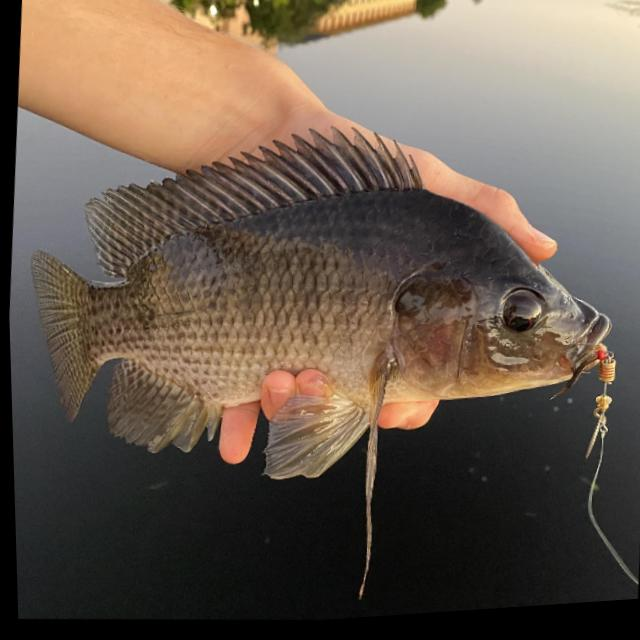Tilapia: (12, 83, 638, 521)
